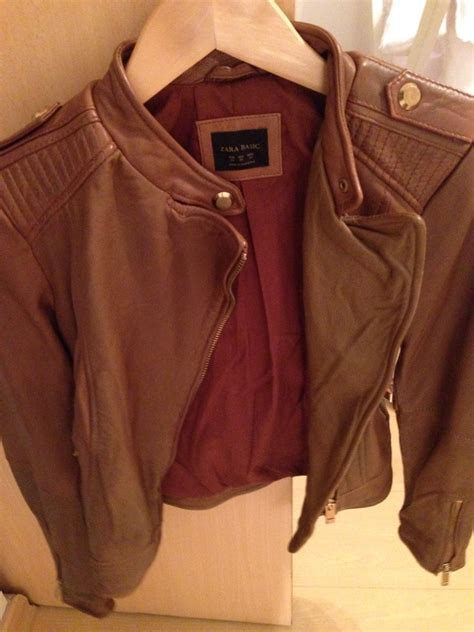cuero: (1, 21, 474, 622)
